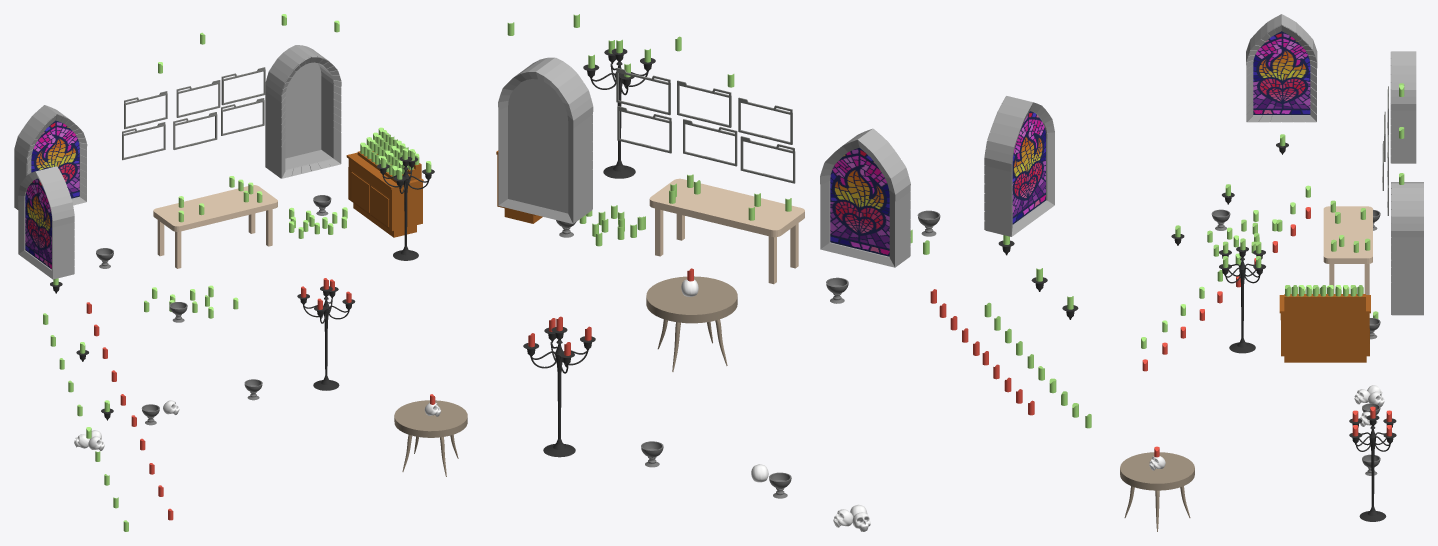
Rendered from items.glb.
The picture shows the model from 3 angles, left to right: view 1: azimuth 30°, elevation 25°; view 2: azimuth 150°, elevation 25°; view 3: azimuth 270°, elevation 25°; orthographic projection. The views are drawn at different scales.
Visible parts, largest first — view 1: WindowRock.003, Cube, WindowRock.001, DesktopBase, WindowRock.002, WindowCrystal01.002, TableBase, WindowCrystal01.003, CandelabraBase.001, CandelabraBase; view 2: WindowRock.003, WindowRock.001, WindowCrystal01.004, WindowRock.002, DesktopBase, TableBase, WindowCrystal01.003, CandelabraBase; view 3: Cube, WindowRock.003, WindowCrystal01.001, WindowRock.002, WindowRock.001, DesktopBase, TableBase, CandelabraBase, CandelabraBase.001.
Part boxes in pixels (x1=…): WindowRock.003: x1=265, y1=45, x2=341, y2=178; Cube: x1=346, y1=151, x2=423, y2=237; WindowRock.001: x1=18, y1=166, x2=74, y2=279; DesktopBase: x1=153, y1=185, x2=277, y2=231; WindowRock.002: x1=14, y1=105, x2=87, y2=209; WindowCrystal01.002: x1=31, y1=120, x2=79, y2=198; TableBase: x1=394, y1=400, x2=467, y2=437; WindowCrystal01.003: x1=25, y1=178, x2=51, y2=269; CandelabraBase.001: x1=393, y1=167, x2=418, y2=260; CandelabraBase: x1=313, y1=297, x2=339, y2=390; WindowRock.003: x1=498, y1=57, x2=593, y2=223; WindowRock.001: x1=984, y1=96, x2=1054, y2=236; WindowCrystal01.004: x1=830, y1=147, x2=889, y2=256; WindowRock.002: x1=820, y1=128, x2=910, y2=267; DesktopBase: x1=649, y1=178, x2=804, y2=237; TableBase: x1=646, y1=276, x2=737, y2=323; WindowCrystal01.003: x1=1012, y1=111, x2=1045, y2=224; CandelabraBase: x1=543, y1=340, x2=575, y2=457; Cube: x1=1279, y1=294, x2=1370, y2=362; WindowRock.003: x1=1391, y1=182, x2=1423, y2=315; WindowCrystal01.001: x1=1253, y1=31, x2=1310, y2=114; WindowRock.002: x1=1390, y1=51, x2=1416, y2=163; WindowRock.001: x1=1246, y1=14, x2=1317, y2=122; DesktopBase: x1=1323, y1=206, x2=1372, y2=263; TableBase: x1=1120, y1=452, x2=1194, y2=490; CandelabraBase: x1=1359, y1=426, x2=1386, y2=521; CandelabraBase.001: x1=1229, y1=257, x2=1255, y2=353.
Bounding box in the file's own units: 18.49 × 16.94 × 12.32.
Materials: 11 (1 with a texture image).
